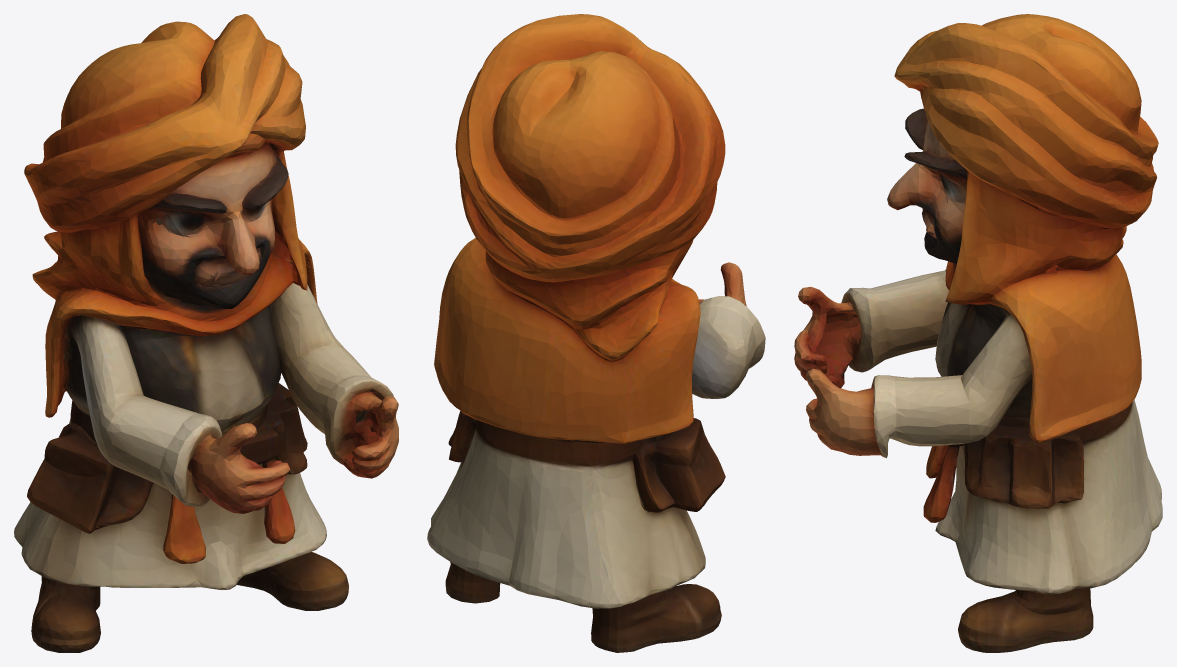
The model's file is sam_k.glb.
The picture shows the model from 3 angles, left to right: view 1: azimuth 30°, elevation 25°; view 2: azimuth 150°, elevation 25°; view 3: azimuth 270°, elevation 25°; orthographic projection. The views are drawn at different scales.
Visible parts, largest first — view 1: geometry_0; view 2: geometry_0; view 3: geometry_0.
Boxes of the visible parts, left/top/right/bottom form: geometry_0: left=14, top=14, right=398, bottom=652; geometry_0: left=427, top=14, right=765, bottom=652; geometry_0: left=794, top=14, right=1162, bottom=652.
Bounding box in the file's own units: 0.521 × 0.9996 × 0.5852.
1 material, 1 textured.
